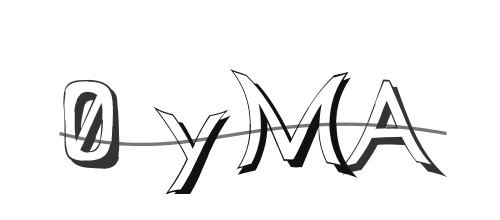0: (60, 77, 122, 169)
A: (347, 76, 446, 179)
M: (229, 64, 349, 178)
y: (149, 103, 230, 195)
